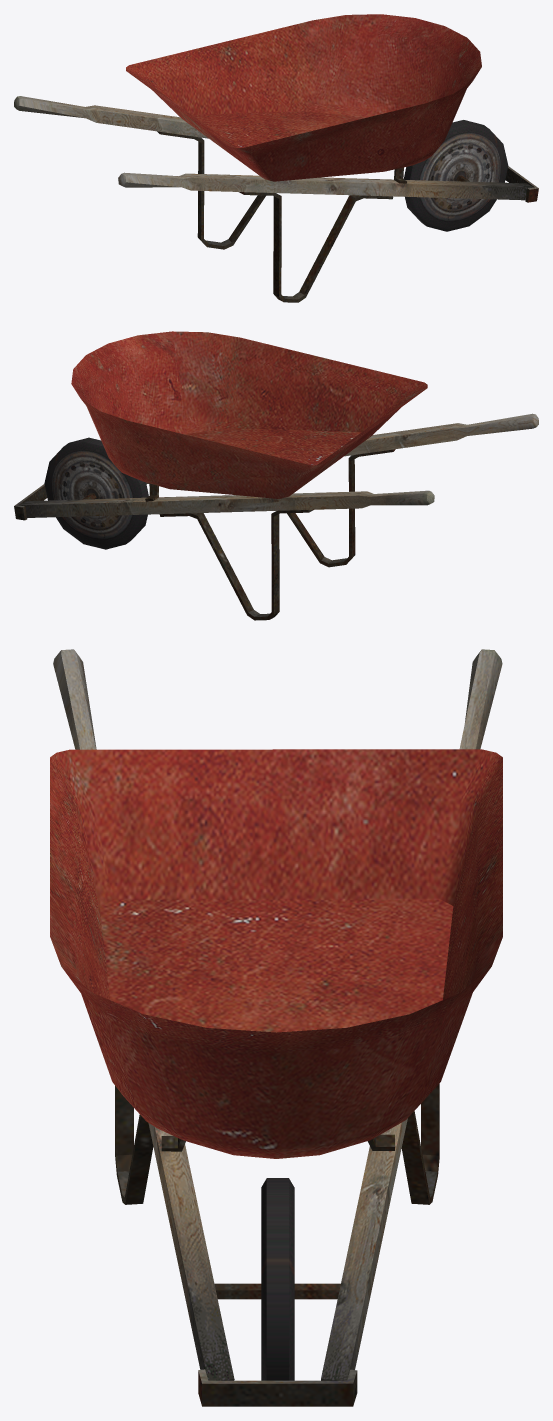
The model's file is Wheebarrow01.FBX.
3 renders of one model, top to bottom at view 1: azimuth 30°, elevation 25°; view 2: azimuth 150°, elevation 25°; view 3: azimuth 270°, elevation 25°, orthographic. The views are drawn at different scales.
Parts seen in each view (by area): view 1: Wheebarrow01; view 2: Wheebarrow01; view 3: Wheebarrow01.
Boxes of the visible parts, x1=… form: Wheebarrow01: x1=14, y1=14, x2=538, y2=302; Wheebarrow01: x1=14, y1=331, x2=538, y2=620; Wheebarrow01: x1=50, y1=649, x2=502, y2=1406.
Bounding box in the file's own units: 105 × 41.47 × 45.64.
